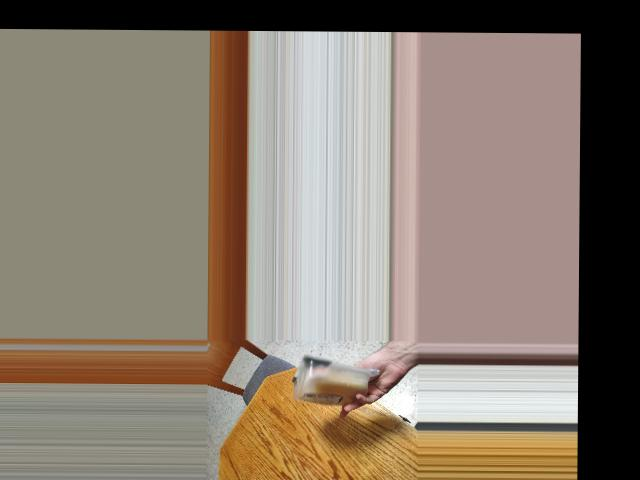cheese: (298, 361, 365, 404)
